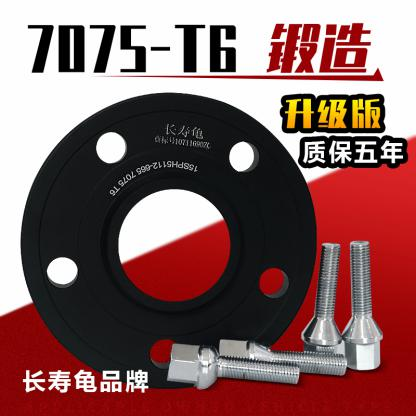FOD: (19, 91, 317, 393), (219, 334, 348, 386), (167, 343, 299, 390), (301, 240, 345, 366), (343, 238, 383, 370)
